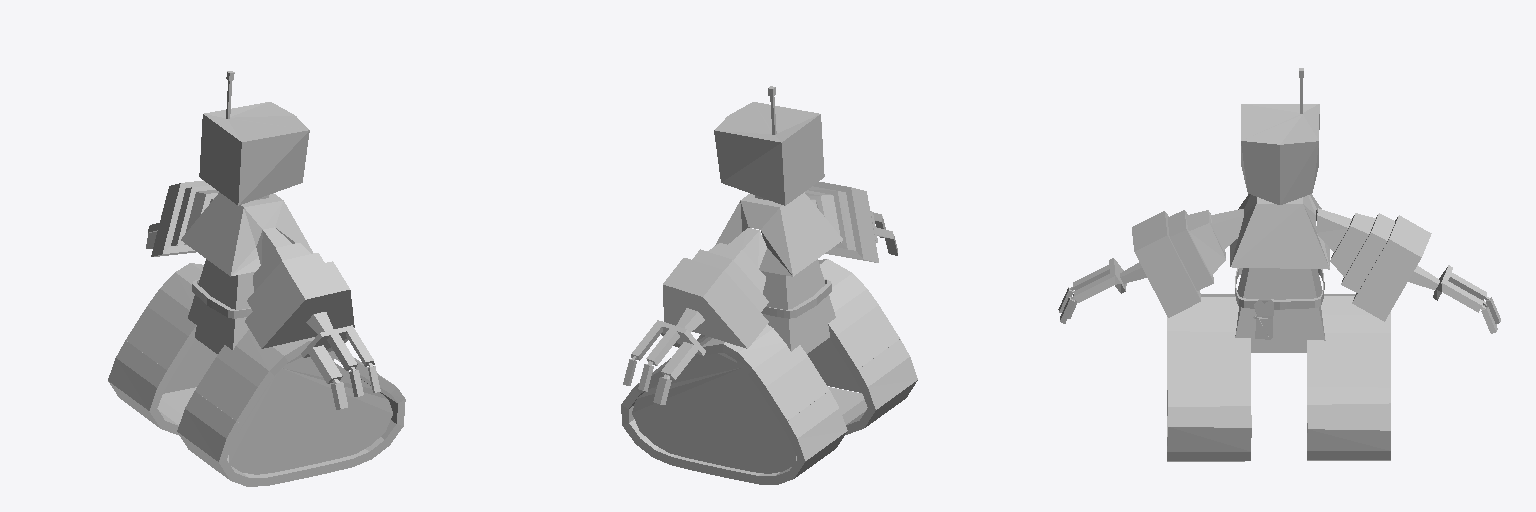
Rendered from crank_hooking.obj.
3 renders of one model, left to right at view 1: azimuth 30°, elevation 25°; view 2: azimuth 150°, elevation 25°; view 3: azimuth 270°, elevation 25°, orthographic.
Parts seen in each view (by area): view 1: POSTAC.001, Plane.001, Plane.004, pas; view 2: POSTAC.001, Plane.001, Plane.004, pas; view 3: POSTAC.001, Plane.001, pas.
Boxes of the visible parts, <box> form: POSTAC.001: <box>146,71,380,409</box>; Plane.001: <box>108,263,405,486</box>; Plane.004: <box>163,339,392,474</box>; pas: <box>192,279,252,318</box>; POSTAC.001: <box>623,86,897,404</box>; Plane.001: <box>621,259,917,484</box>; Plane.004: <box>632,338,861,473</box>; pas: <box>761,279,831,318</box>; POSTAC.001: <box>1058,68,1500,352</box>; Plane.001: <box>1167,294,1390,461</box>; pas: <box>1235,268,1324,339</box>.
Size of the model in its own units: 4.65 by 8.53 by 9.52.